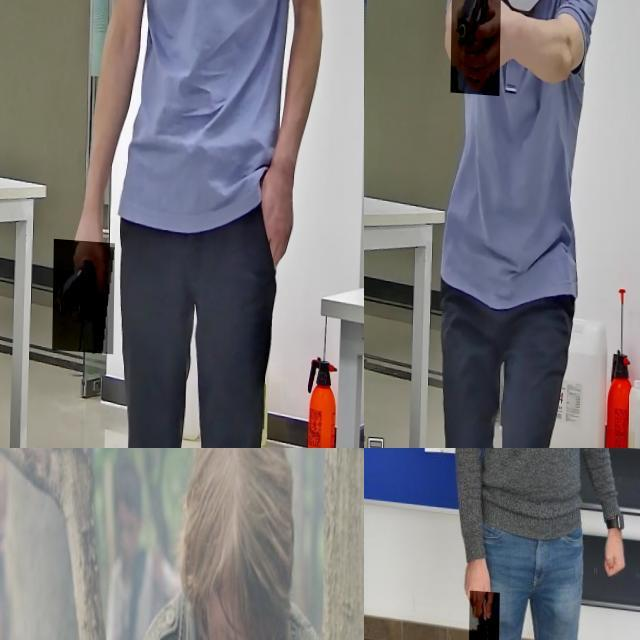-: (469, 585, 501, 640)
gun-knife-thesis - v11 Yolov5 augmented: (54, 236, 116, 350), (451, 0, 501, 91)
